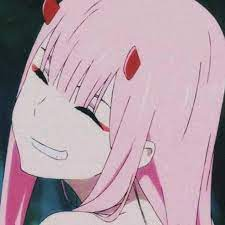zeroTwo: (11, 2, 224, 179)
